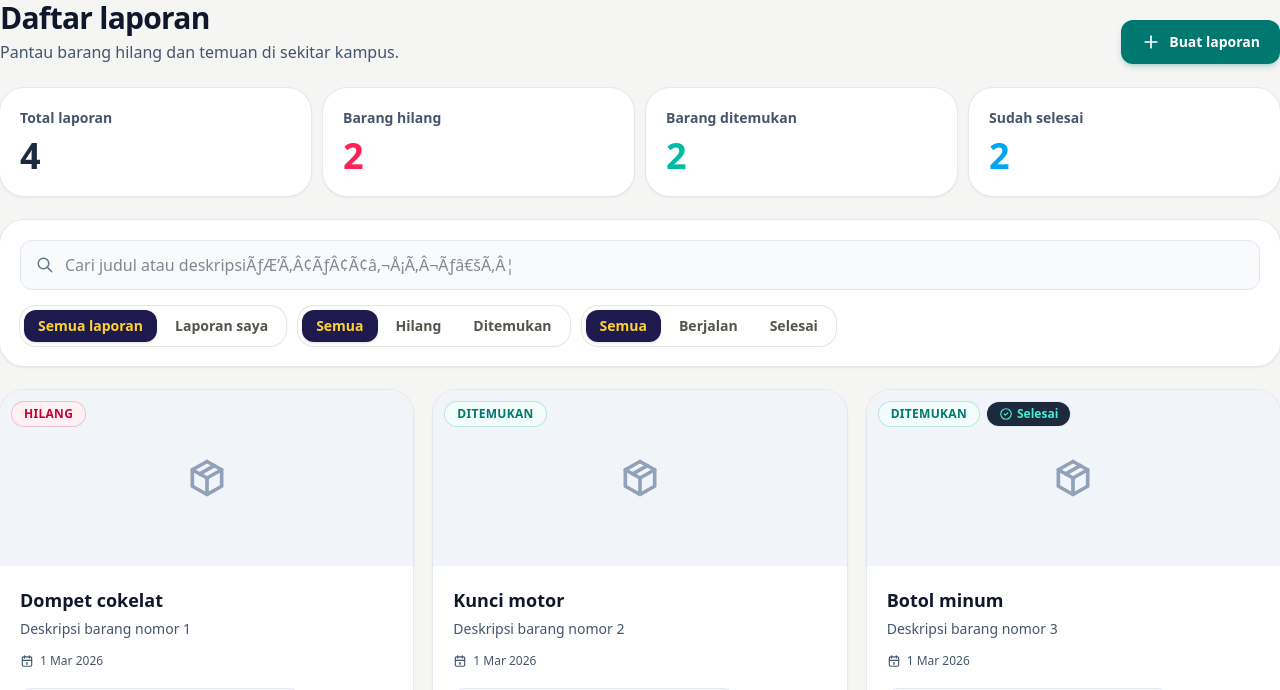
Test case: HomePage › pencarian langsung menyaring judul/deskripsi dan menampilkan keadaan kosong
Check: the heading "Dompet cokelat" is shown, box x1=20 y1=588 x2=163 y2=612
Type "payung" into the search field named "Cari laporan". click: (640, 265)
box: x1=20 y1=240 x2=1260 y2=290
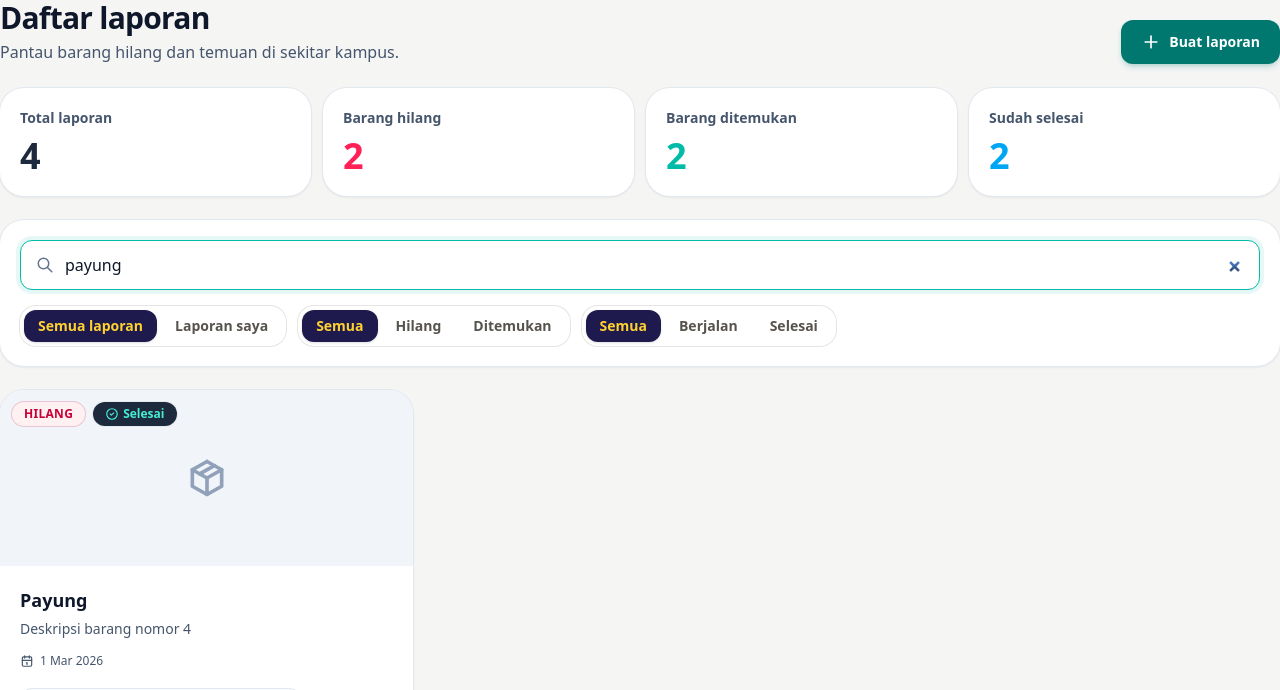
Replace the text in the search field named "Cari laporan" with "tidak-ada". click: (640, 265)
box: x1=20 y1=240 x2=1260 y2=290
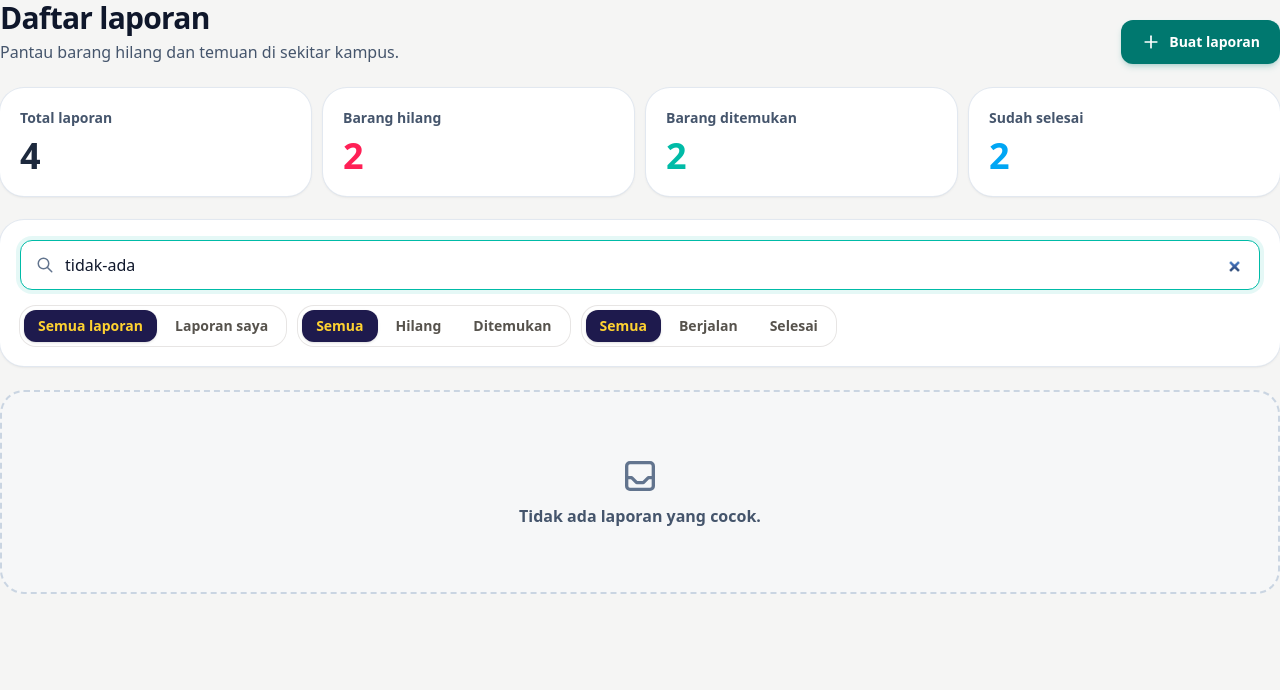
Check: the text "Tidak ada laporan yang cocok." is shown, box x1=519 y1=504 x2=761 y2=528
